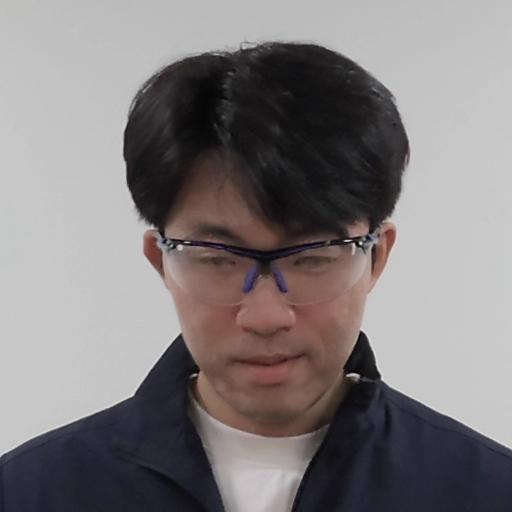glasses: (120, 35, 399, 409)
